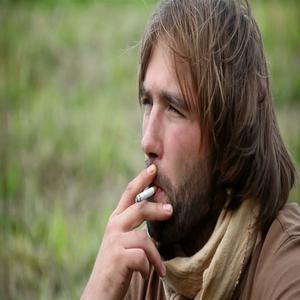cigarette: (134, 184, 158, 205)
